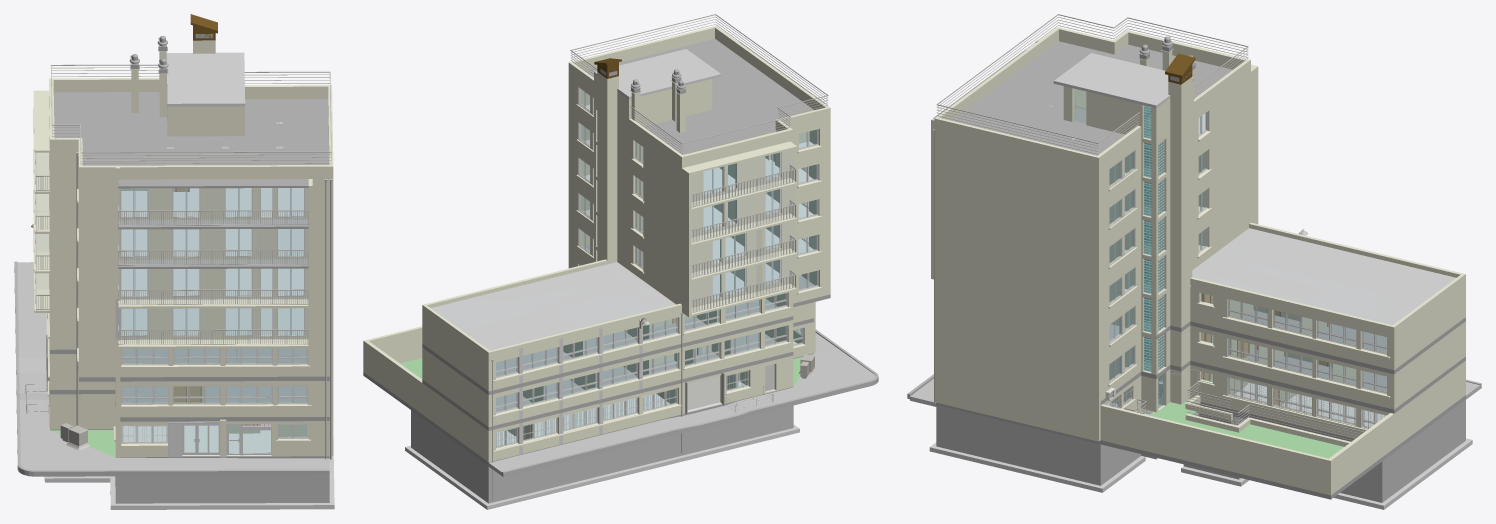
3 views of the same model, side by side, from view 1: azimuth 30°, elevation 25°; view 2: azimuth 150°, elevation 25°; view 3: azimuth 270°, elevation 25° (orthographic). The views are drawn at different scales.
Visible parts, largest first — view 1: 2bFMCFmkj1kfWO5Lvqt__E, 1zCZNx5CT1i8Y9$_dU9fMm, 0dWoULYUH3zPg8qJ$TnRTP, 0dWoULYUH3zPg8qJhTnRTP, 0dWoULYUH3zPg8qJpTnRTP, 0dWoULYUH3zPg8qJtTnRTP, 0dWoULYUH3zPg8sJxTnRgm, 0dWoULYUH3zPg8qJlTnRTP, 313IdYHbv0JwPbnB6B727$, 0JJqPutQD7fgEmZfe5WIOV, 0dWoULYUH3zPg8qJZTnRTP, 04Zj82bz96WhfKErdD6QSF (+77 smaller); view 2: 1IQJpSU49DlPKPMYhdab44, 2bFMCFmkj1kfWO5Lvqt__E, 1T2hYTZj1EsBZaf4hQmbXu, 3RLTfSMBXE_BWgA7WbvgjJ, 04Zj82bz96WhfKErdD6QSF, 1T2hYTZj1EsBZaf4hQmbWV, 313IdYHbv0JwPbnB6B727$, 0JJqPutQD7fgEmZfe5WIOV, 2QdDmV0TrDCeyB2Uhxt6rB, 34YWoH0WT4GQc$ARBHEUIX, 0dWoULYUH3zPg8sJxTnRUj, 0JJqPutQD7fgEmZfq5WIOV (+66 smaller); view 3: 1IQJpSU49DlPKPMYhdab44, 2bFMCFmkj1kfWO5Lvqt__E, 3RLTfSMBXE_BWgA7Wbvgs$, 1zCZNx5CT1i8Y9$_dU9fLy, 321EIHH0v8KOO2s9NjdAGp, 321EIHH0v8KOO2s9RjdAGp, 321EIHH0v8KOO2s93jdAGp, 321EIHH0v8KOO2s97jdAGp, 321EIHH0v8KOO2s9JjdAGp, 321EIHH0v8KOO2s9FjdAGp, 321EIHH0v8KOO2s9BjdAGp, 3RLTfSMBXE_BWgA7WbvgjJ (+44 smaller).
Part boxes in pixels (<box>): 2bFMCFmkj1kfWO5Lvqt__E: <box>53,92,329,165</box>; 1zCZNx5CT1i8Y9$_dU9fMm: <box>115,476,325,503</box>; 0dWoULYUH3zPg8qJ$TnRTP: <box>83,337,329,377</box>; 0dWoULYUH3zPg8qJhTnRTP: <box>83,218,329,258</box>; 0dWoULYUH3zPg8qJpTnRTP: <box>83,297,329,337</box>; 0dWoULYUH3zPg8qJtTnRTP: <box>83,258,329,298</box>; 0dWoULYUH3zPg8sJxTnRgm: <box>120,381,329,417</box>; 0dWoULYUH3zPg8qJlTnRTP: <box>83,179,329,219</box>; 313IdYHbv0JwPbnB6B727$: <box>166,52,245,106</box>; 0JJqPutQD7fgEmZfe5WIOV: <box>19,399,115,470</box>; 0dWoULYUH3zPg8qJZTnRTP: <box>83,165,329,179</box>; 04Zj82bz96WhfKErdD6QSF: <box>50,64,331,164</box>; 1IQJpSU49DlPKPMYhdab44: <box>431,262,675,350</box>; 2bFMCFmkj1kfWO5Lvqt__E: <box>585,38,813,154</box>; 1T2hYTZj1EsBZaf4hQmbXu: <box>491,405,793,502</box>; 3RLTfSMBXE_BWgA7WbvgjJ: <box>365,341,486,460</box>; 04Zj82bz96WhfKErdD6QSF: <box>570,14,828,153</box>; 1T2hYTZj1EsBZaf4hQmbWV: <box>411,410,491,503</box>; 313IdYHbv0JwPbnB6B727$: <box>594,49,721,99</box>; 0JJqPutQD7fgEmZfe5WIOV: <box>738,348,875,410</box>; 2QdDmV0TrDCeyB2Uhxt6rB: <box>642,282,790,353</box>; 34YWoH0WT4GQc$ARBHEUIX: <box>496,245,814,376</box>; 0dWoULYUH3zPg8sJxTnRUj: <box>422,309,486,389</box>; 0JJqPutQD7fgEmZfq5WIOV: <box>488,420,674,475</box>; 1IQJpSU49DlPKPMYhdab44: <box>1190,228,1455,325</box>; 2bFMCFmkj1kfWO5Lvqt__E: <box>952,41,1232,155</box>; 3RLTfSMBXE_BWgA7Wbvgs$: <box>1100,404,1332,495</box>; 1zCZNx5CT1i8Y9$_dU9fLy: <box>936,405,1102,485</box>; 321EIHH0v8KOO2s9NjdAGp: <box>934,324,1100,402</box>; 321EIHH0v8KOO2s9RjdAGp: <box>934,363,1100,441</box>; 321EIHH0v8KOO2s93jdAGp: <box>934,130,1100,208</box>; 321EIHH0v8KOO2s97jdAGp: <box>934,169,1100,247</box>; 321EIHH0v8KOO2s9JjdAGp: <box>934,285,1100,363</box>; 321EIHH0v8KOO2s9FjdAGp: <box>934,246,1100,324</box>; 321EIHH0v8KOO2s9BjdAGp: <box>934,208,1100,285</box>; 3RLTfSMBXE_BWgA7WbvgjJ: <box>1329,362,1463,493</box>.
Bounding box in the file's own units: 32.77 × 28.19 × 37.66.
